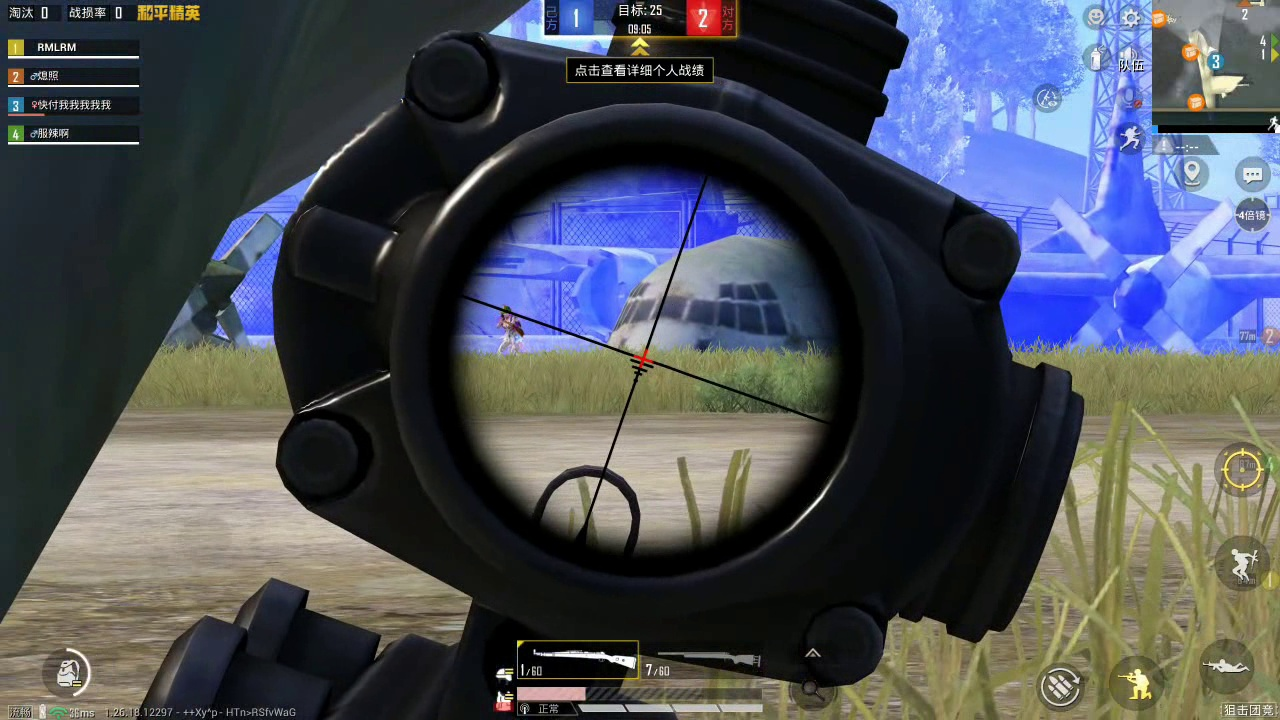enemy: (496, 304, 527, 357)
